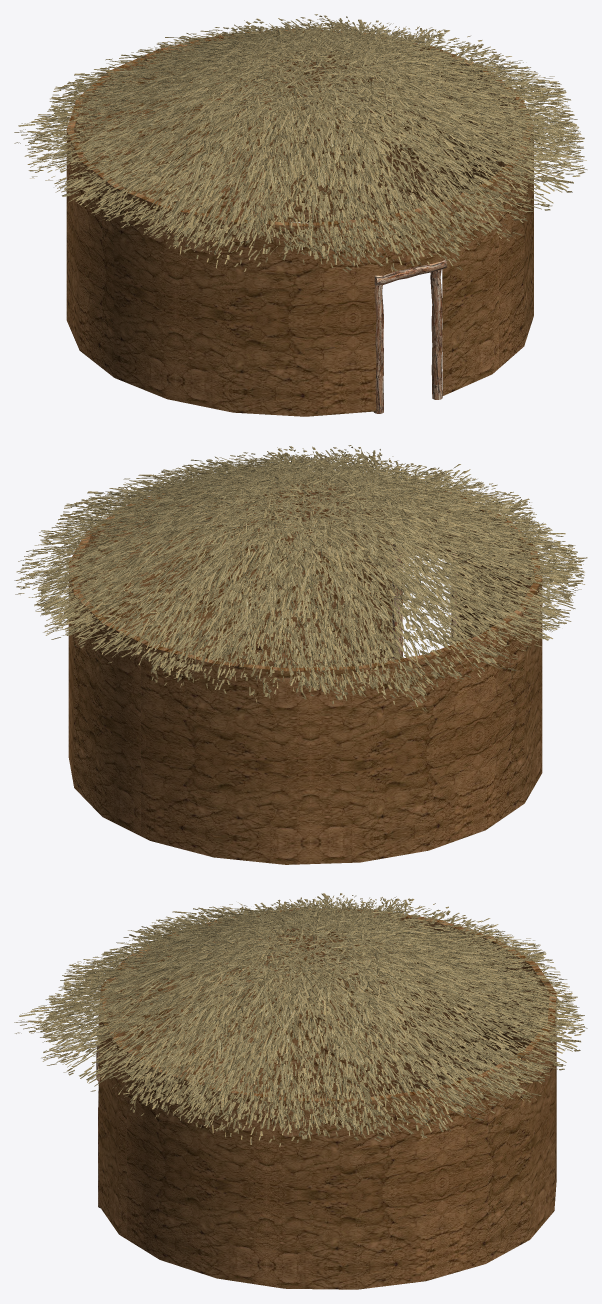
Rendered from hut.glb.
The picture shows the model from 3 angles, top to bottom: view 1: azimuth 30°, elevation 25°; view 2: azimuth 150°, elevation 25°; view 3: azimuth 270°, elevation 25°; orthographic projection. The views are drawn at different scales.
Visible parts, largest first — view 1: Wall, Roof grassDryBlowing3Main6, grassDryBlowing3Main5 Roof, Door_frame pCylinder3, Door_frame pCylinder2, pCylinder4 Door_frame; view 2: Wall, grassDryBlowing3Main5 Roof, Roof grassDryBlowing3Main6; view 3: Wall, grassDryBlowing3Main5 Roof, Roof grassDryBlowing3Main6.
Part boxes in pixels (bbox=[...]): Wall: bbox=[66, 29, 533, 416]; Roof grassDryBlowing3Main6: bbox=[14, 19, 587, 272]; grassDryBlowing3Main5 Roof: bbox=[24, 14, 578, 270]; Door_frame pCylinder3: bbox=[430, 269, 442, 399]; Door_frame pCylinder2: bbox=[374, 275, 383, 413]; pCylinder4 Door_frame: bbox=[374, 259, 447, 285]; Wall: bbox=[68, 475, 542, 864]; grassDryBlowing3Main5 Roof: bbox=[34, 458, 587, 704]; Roof grassDryBlowing3Main6: bbox=[14, 445, 584, 711]; Wall: bbox=[98, 908, 556, 1289]; grassDryBlowing3Main5 Roof: bbox=[14, 893, 587, 1146]; Roof grassDryBlowing3Main6: bbox=[39, 902, 584, 1142].
Size of the model in its own units: 16.62 by 8.74 by 17.04.
Materials: 3 (3 with a texture image).
